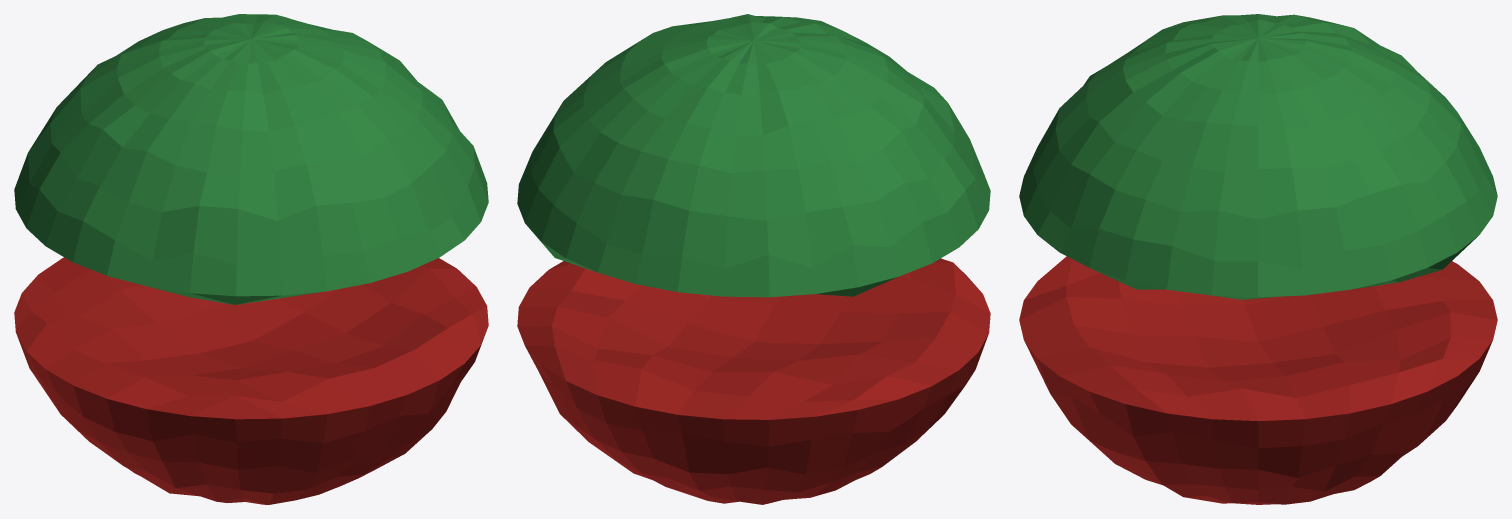
The model's file is world_low_poly.fbx.
The picture shows the model from 3 angles, left to right: view 1: azimuth 30°, elevation 25°; view 2: azimuth 150°, elevation 25°; view 3: azimuth 270°, elevation 25°; orthographic projection.
Visible parts, largest first — view 1: Sphere; view 2: Sphere; view 3: Sphere.
Boxes of the visible parts, x1,y1,x2,y2 form: Sphere: (14,14,488,504); Sphere: (517,14,990,504); Sphere: (1019,14,1497,504).
Size of the model in its own units: 196 by 201 by 196.
